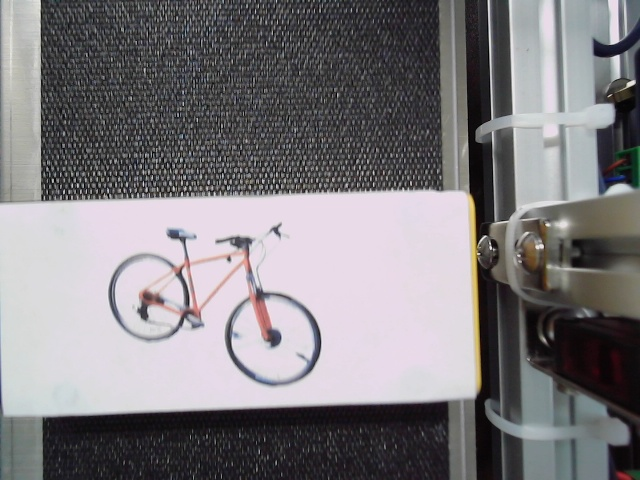bicycle: (107, 223, 327, 388)
